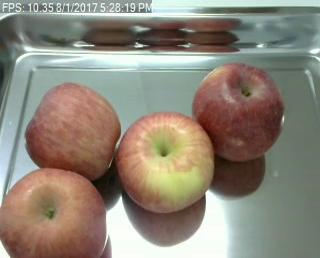apple: (1, 169, 109, 258), (118, 112, 215, 211), (24, 82, 121, 178), (193, 62, 286, 162)
